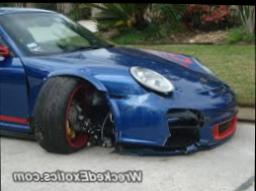Bonnet: (94, 68, 144, 95)
Bumper: (106, 92, 220, 157)
Fender: (15, 62, 46, 110)
